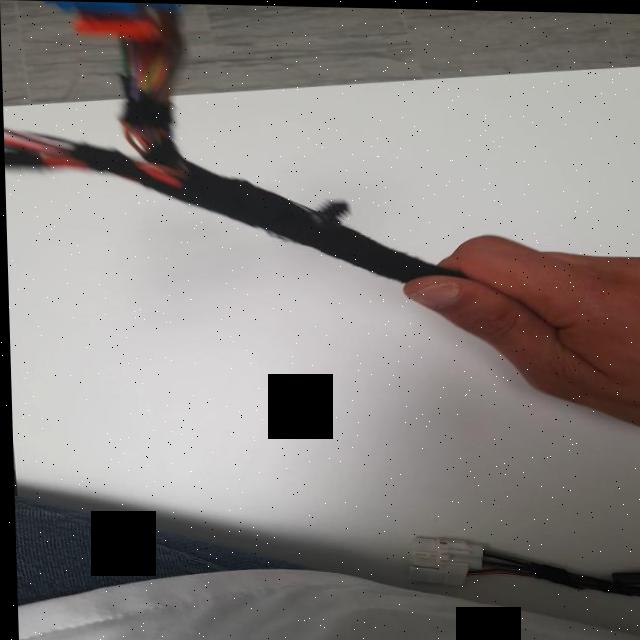cable: (3, 39, 459, 280)
